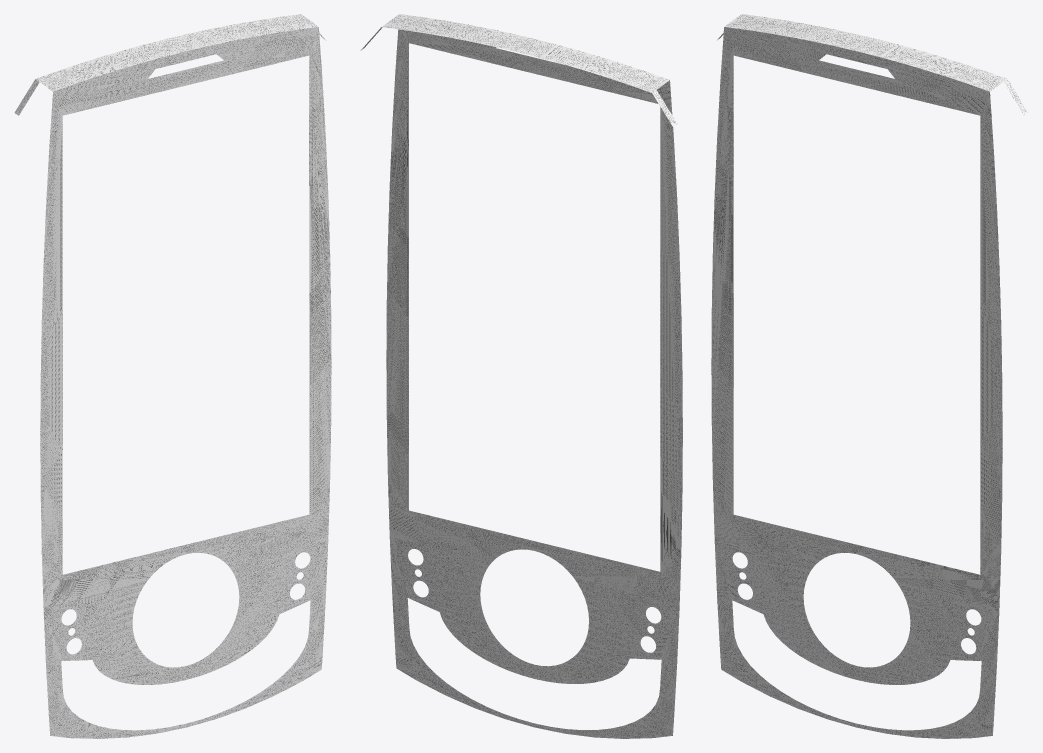
The model's file is original-27.obj.
The picture shows the model from 3 angles, left to right: view 1: azimuth 30°, elevation 25°; view 2: azimuth 150°, elevation 25°; view 3: azimuth 330°, elevation 25°; orthographic projection.
Visible parts, largest first — view 1: mesh2/mesh2-geometry/material_4#mesh2-geometry; view 2: mesh2/mesh2-geometry/material_4#mesh2-geometry; view 3: mesh2/mesh2-geometry/material_4#mesh2-geometry.
Boxes of the visible parts, <box> form: mesh2/mesh2-geometry/material_4#mesh2-geometry: <box>14,14,331,738</box>; mesh2/mesh2-geometry/material_4#mesh2-geometry: <box>360,14,682,738</box>; mesh2/mesh2-geometry/material_4#mesh2-geometry: <box>711,14,1028,738</box>.
Bounding box in the file's own units: 0.8983 × 1.89 × 0.089.
